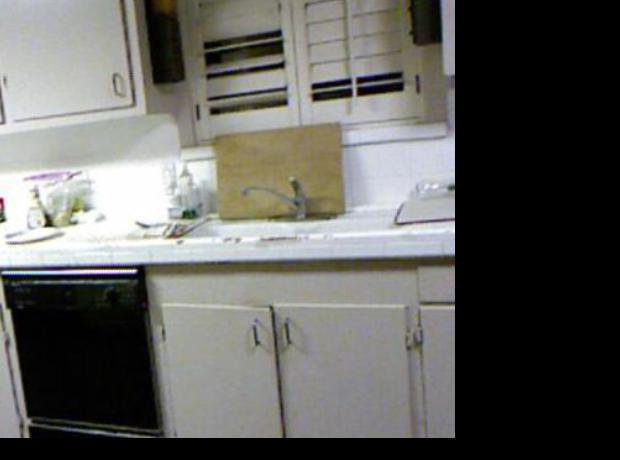Lavaplatos: (174, 166, 354, 264)
